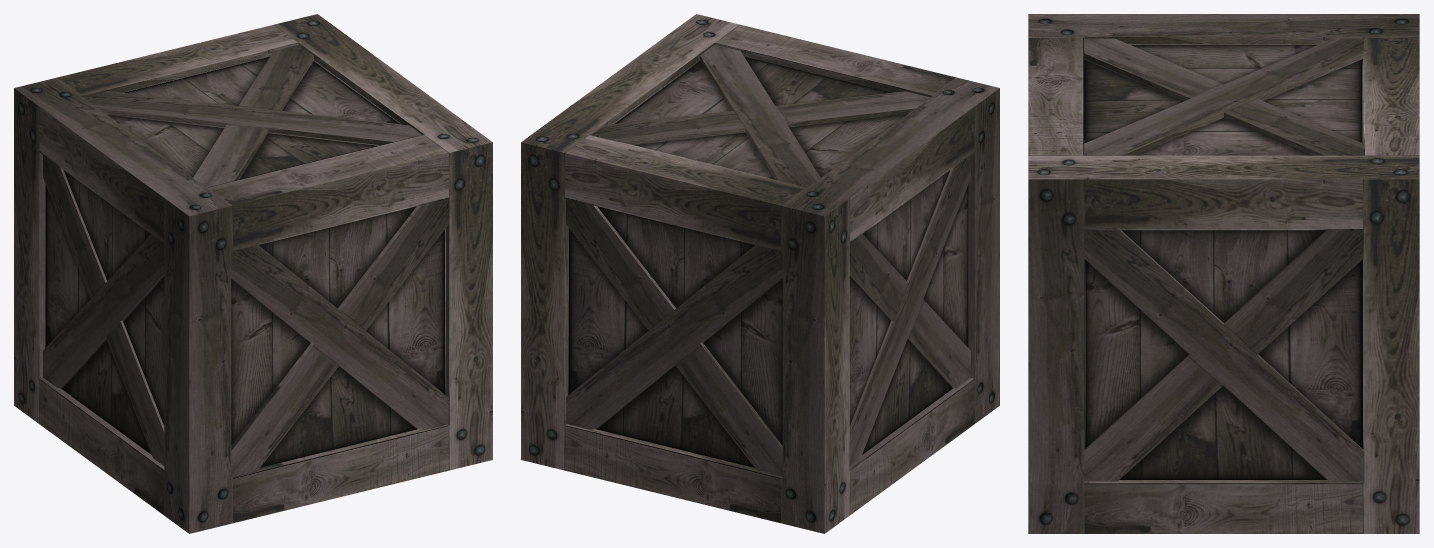
File: Crate 3.glb
The picture shows the model from 3 angles, left to right: view 1: azimuth 30°, elevation 25°; view 2: azimuth 150°, elevation 25°; view 3: azimuth 270°, elevation 25°; orthographic projection. The views are drawn at different scales.
Parts seen in each view (by area): view 1: Crate; view 2: Crate; view 3: Crate.
Boxes of the visible parts, <box> form: Crate: <box>14,14,492,533</box>; Crate: <box>521,14,999,533</box>; Crate: <box>1028,14,1419,533</box>.
Bounding box in the file's own units: 19.5 × 19.5 × 19.5.
Materials: 1 (1 with a texture image).
